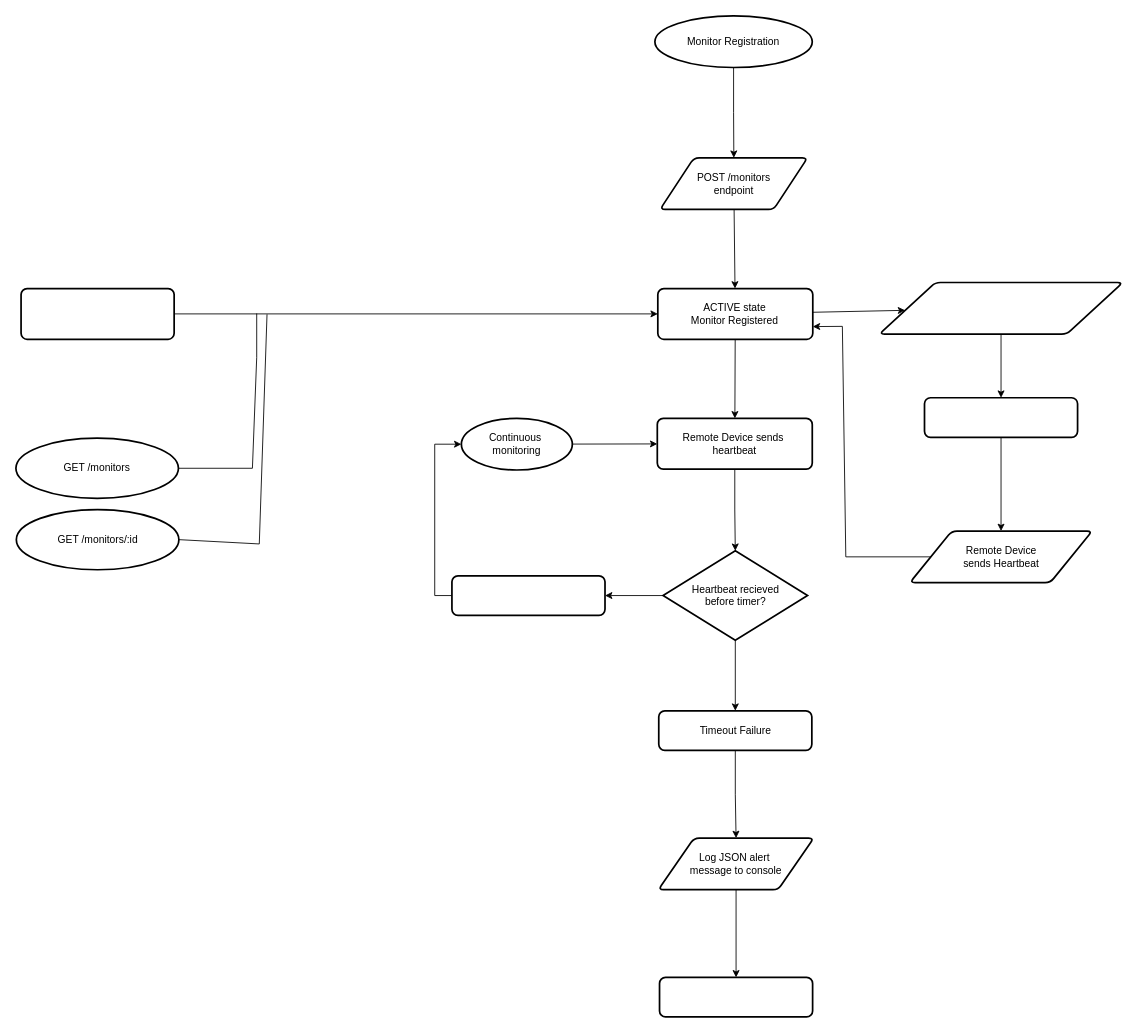
This 1138x1032 diagram has some shape labels left out. Each missing label, with the centre of its shape:
Clear existing timer, start new timer: the point at 528,595
DOWN state: the point at 735,996
PAUSED state: the point at 1000,417
POST /monitors/:id/pause endpoint: the point at 1000,308
Retrieve monitor(s) health: the point at 97,313
